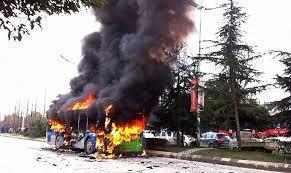fire: (86, 114, 145, 158), (66, 90, 93, 109), (45, 114, 64, 133), (101, 101, 110, 110)
